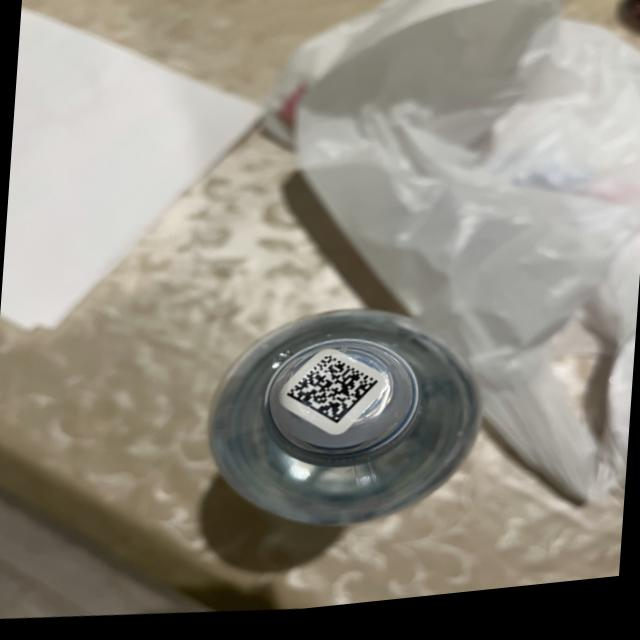datamatrix: (285, 356, 381, 438)
